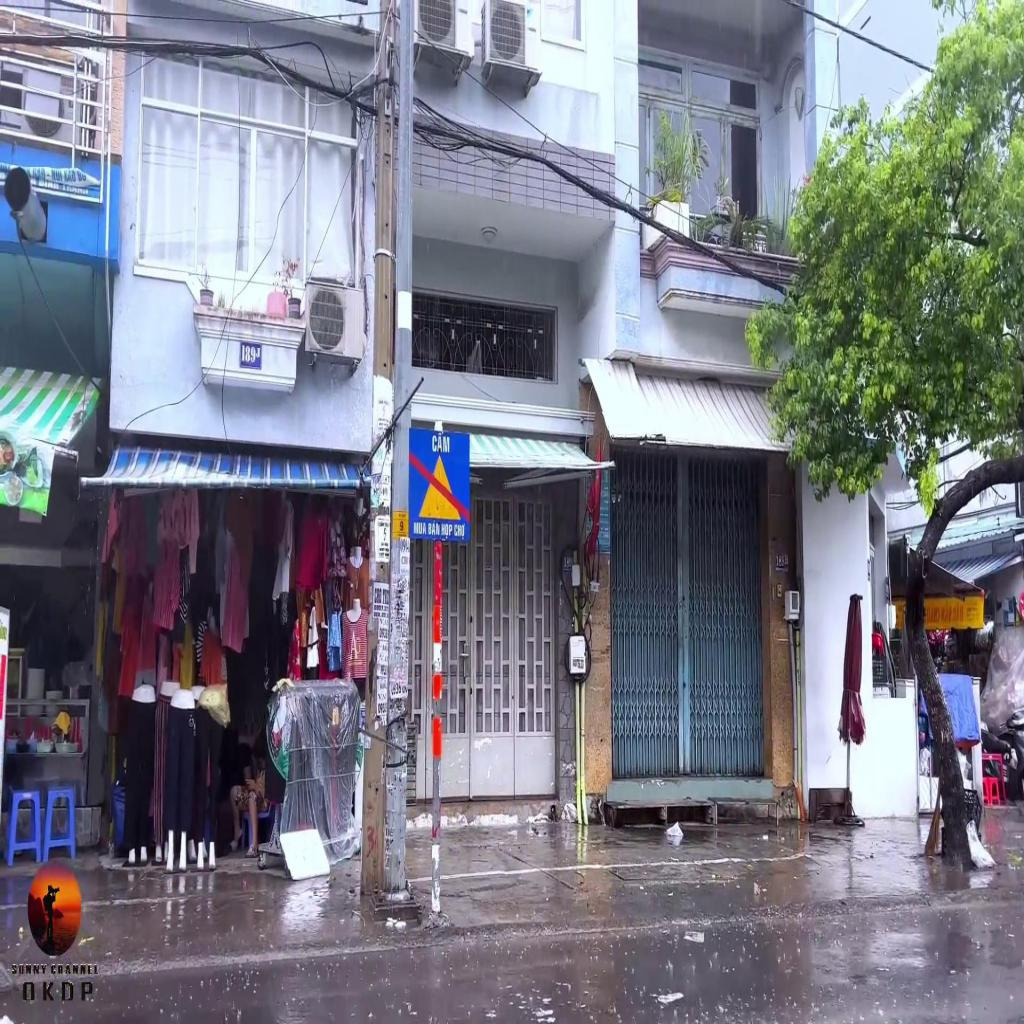khac: (407, 428, 471, 542)
